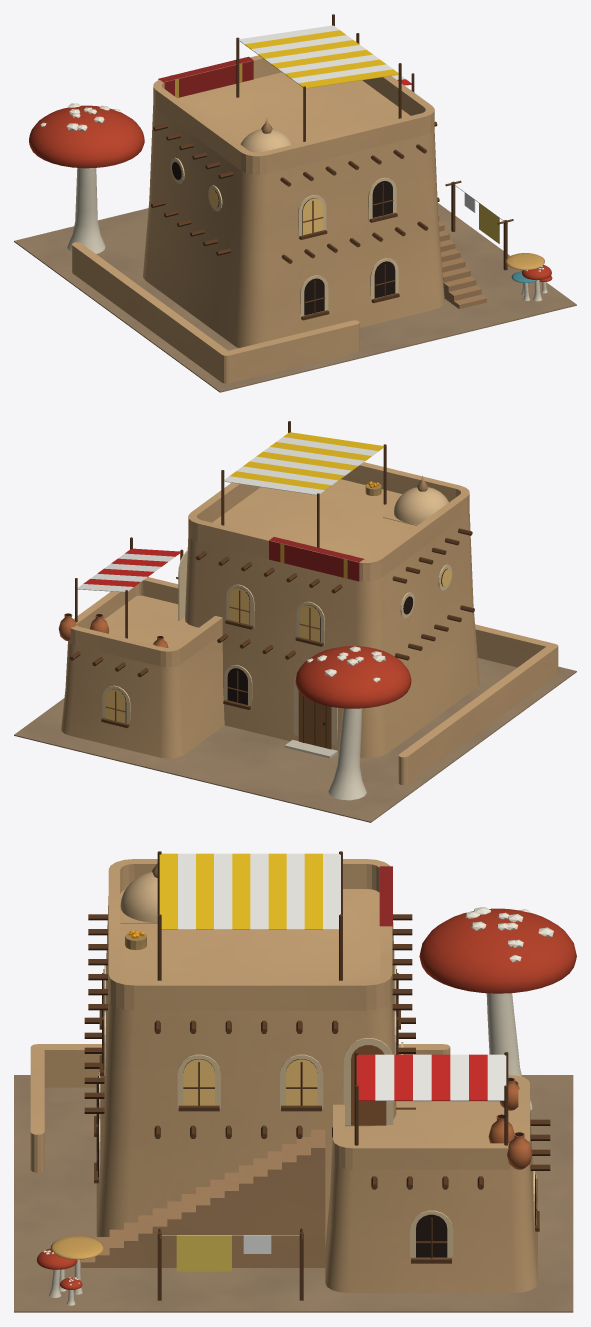
The model's file is hl_dvojdum.glb.
3 renders of one model, top to bottom at view 1: azimuth 30°, elevation 25°; view 2: azimuth 150°, elevation 25°; view 3: azimuth 270°, elevation 25°, orthographic. The views are drawn at different scales.
Visible parts, largest first — view 1: dum, noc; view 2: dum, noc; view 3: dum, noc.
Boxes of the visible parts, <box> form: dum: <box>14,14,576,392</box>; noc: <box>209,189,322,235</box>; dum: <box>14,421,576,822</box>; noc: <box>105,569,451,723</box>; dum: <box>14,851,576,1312</box>; noc: <box>103,969,536,1224</box>.
Size of the model in its own units: 14.37 by 8.84 by 14.25.
Materials: 1 (1 with a texture image).
